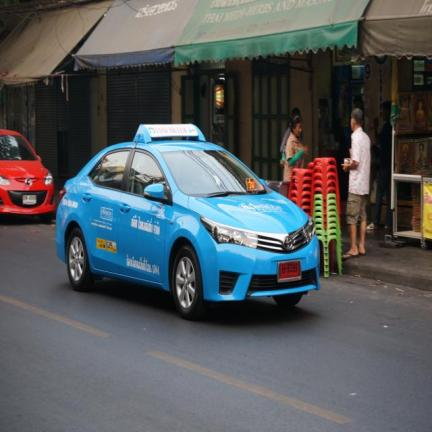car: (0, 130, 55, 221)
human: (343, 108, 370, 259), (367, 101, 391, 230), (283, 115, 308, 181), (280, 107, 300, 165)
taxi: (57, 125, 319, 318)
